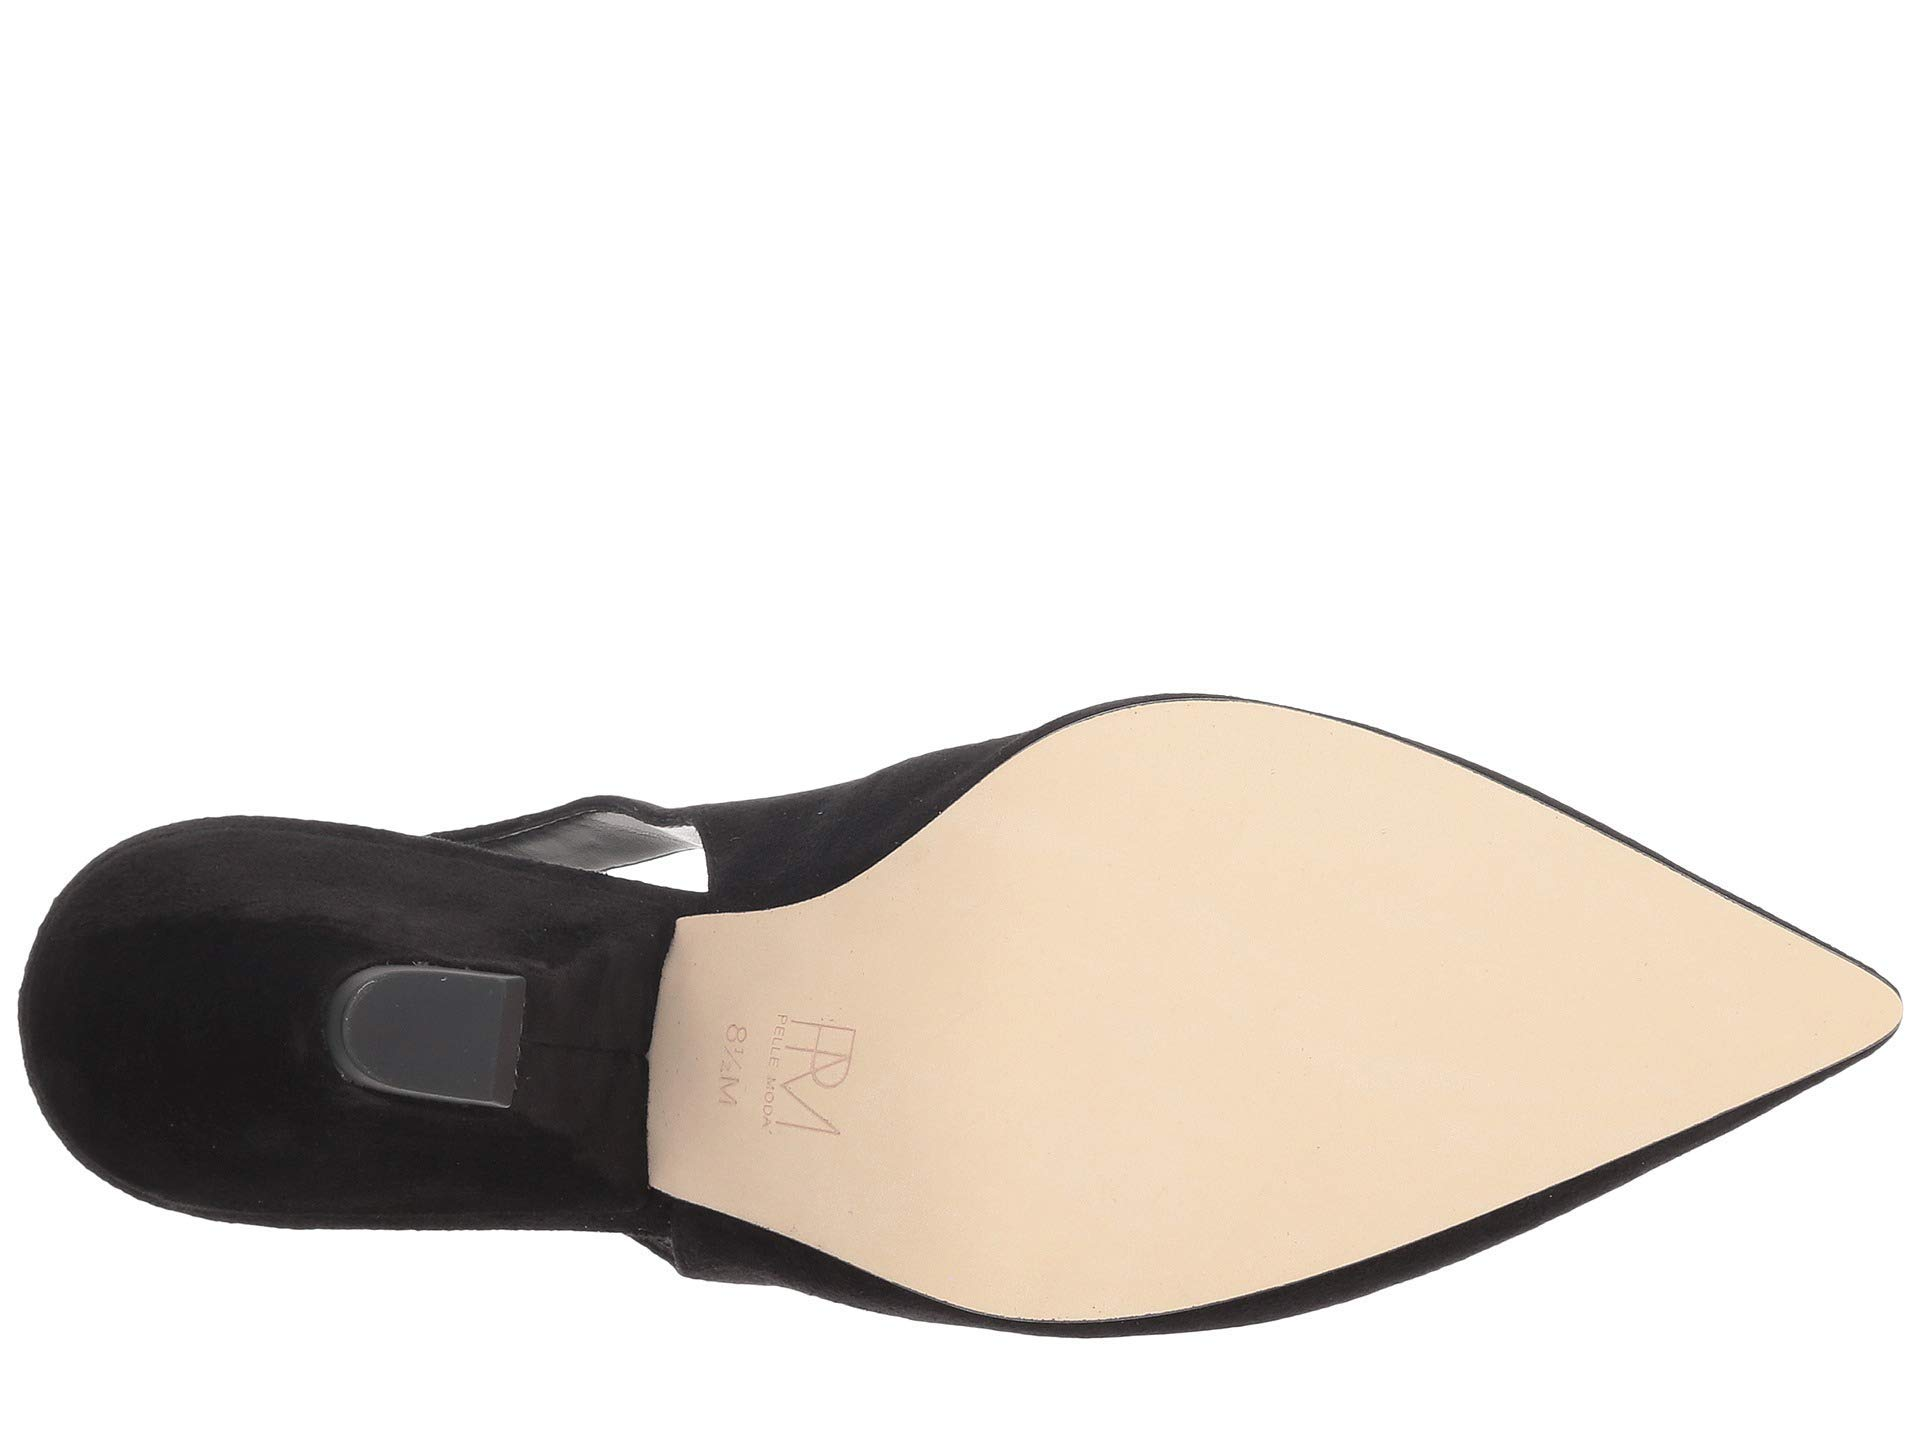other: (1069, 743, 1407, 1215), (1473, 827, 1581, 1159), (1646, 908, 1739, 1100), (376, 985, 487, 1085)
